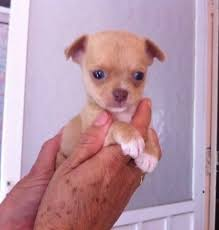chihuahua: (27, 17, 179, 183)
